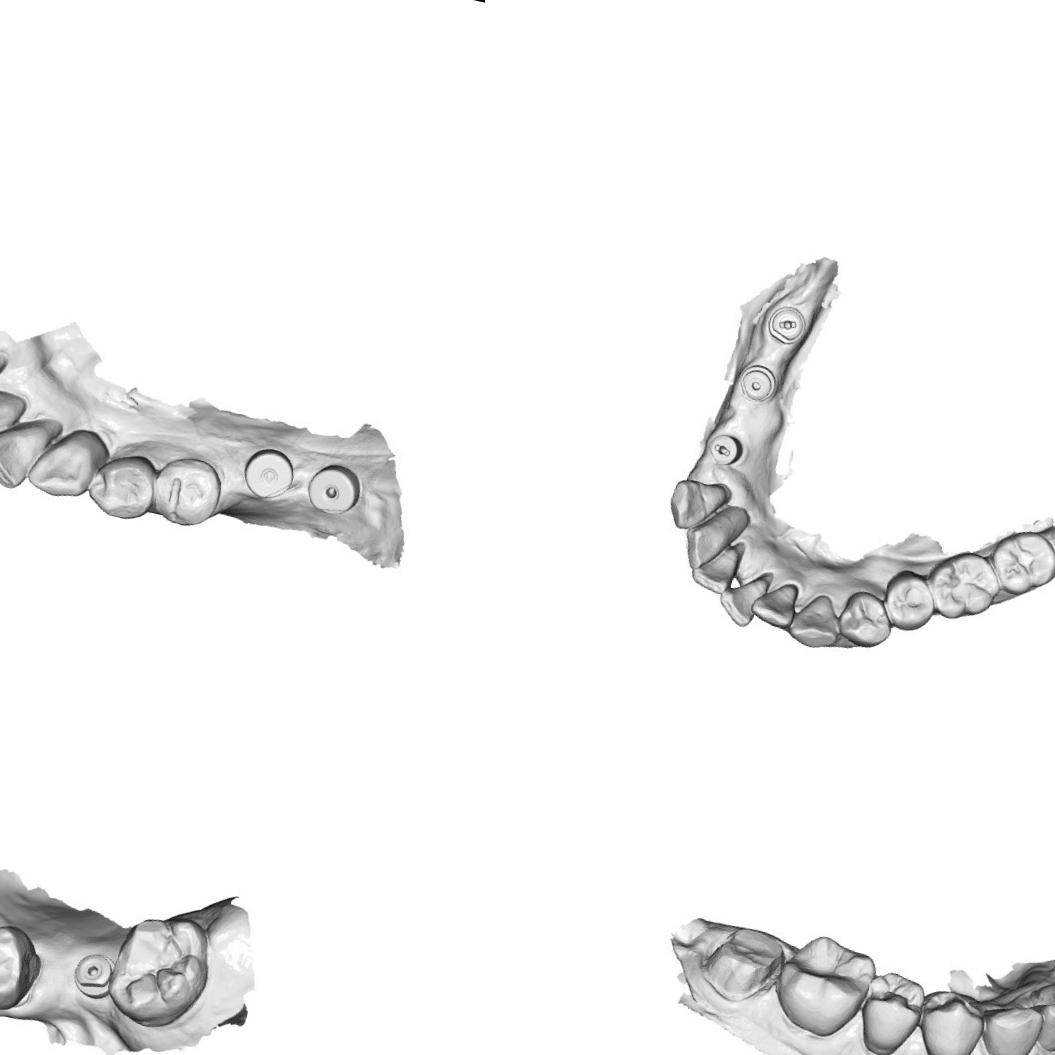canine: (21, 416, 110, 513), (977, 988, 1047, 1055), (662, 474, 733, 538), (786, 590, 848, 656)
crown: (690, 904, 793, 1014)
implant: (305, 456, 368, 524), (238, 443, 300, 510), (61, 940, 118, 1004), (738, 363, 778, 403)
implant_minus: (764, 302, 810, 351), (704, 432, 745, 468)
incisor: (0, 396, 64, 490), (678, 506, 742, 579), (686, 536, 740, 596), (712, 568, 764, 629), (749, 574, 801, 633), (0, 378, 27, 464), (1035, 993, 1055, 1055)
molar: (104, 910, 218, 1034), (770, 926, 880, 1044), (921, 544, 1004, 628), (983, 524, 1055, 602)
premolar: (146, 450, 228, 530), (855, 970, 927, 1055), (87, 448, 158, 524), (915, 985, 988, 1055), (832, 582, 898, 652), (876, 569, 940, 638), (0, 923, 42, 1011)
